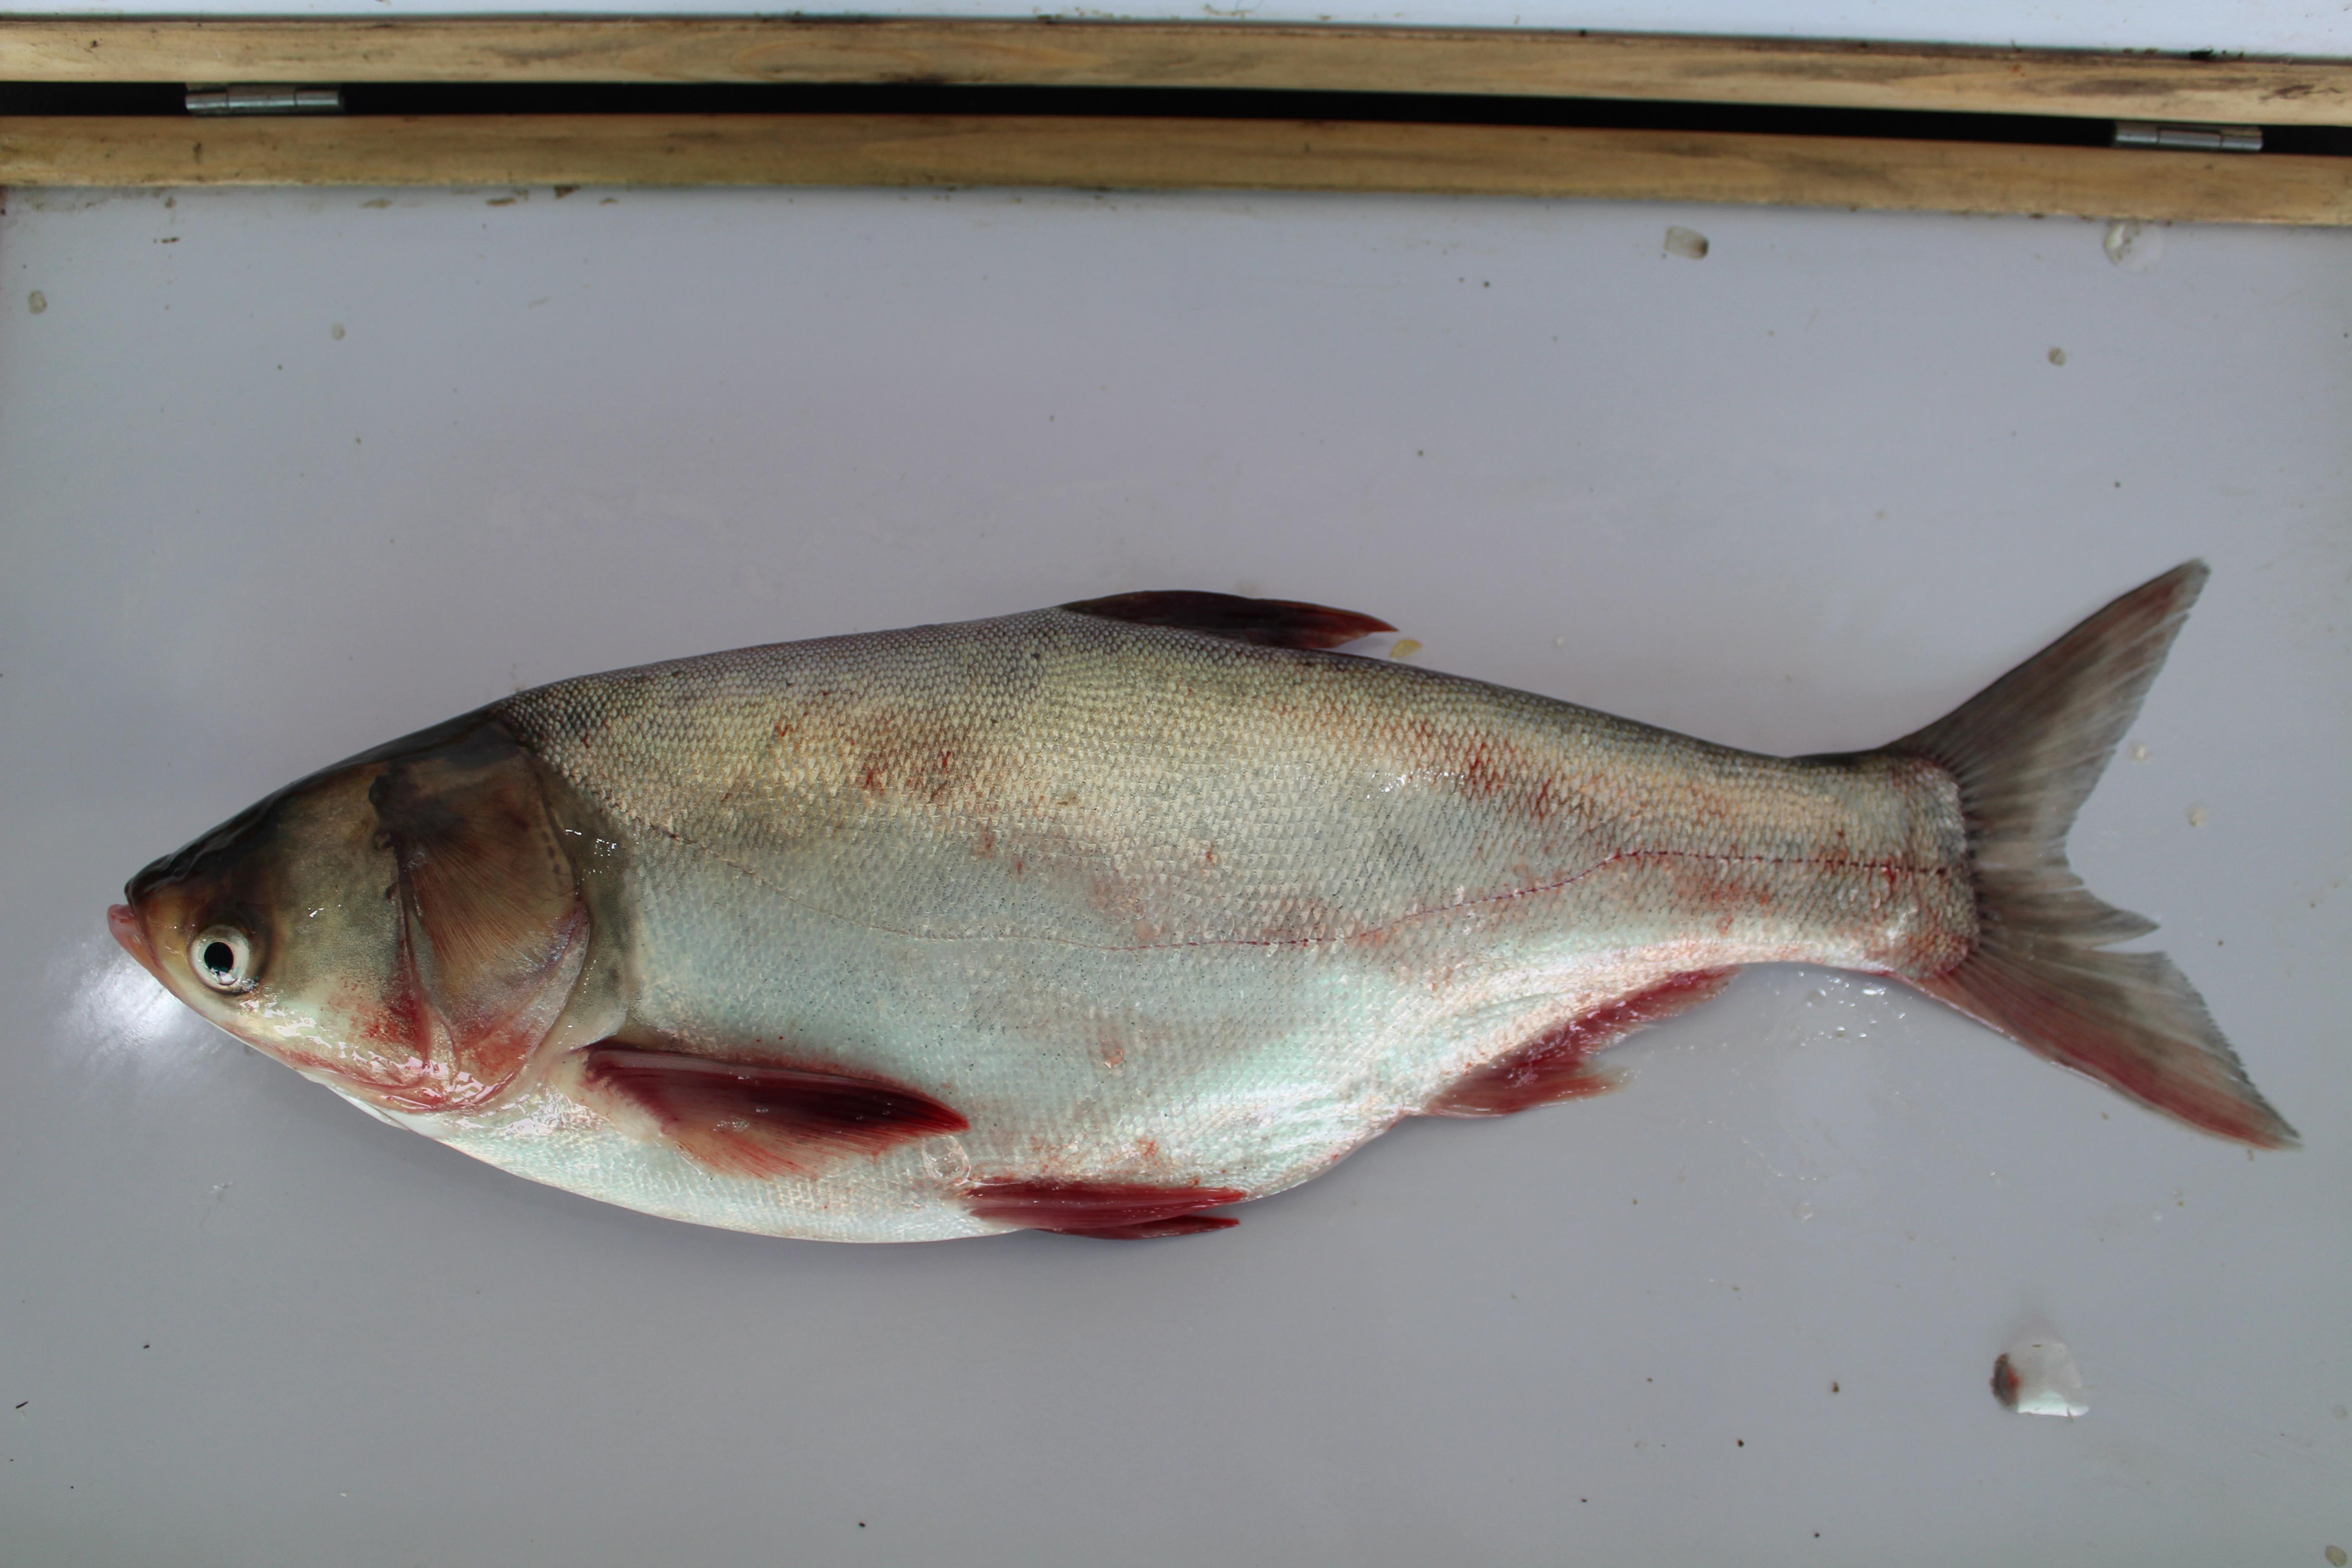Silver Carp: (133, 562, 2305, 1242)
